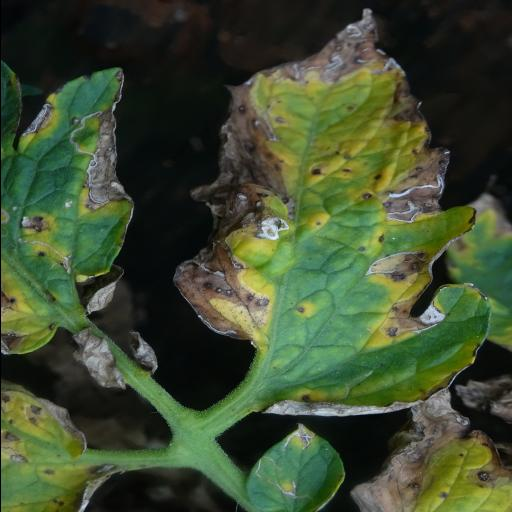Early Blight: (169, 0, 496, 422)
